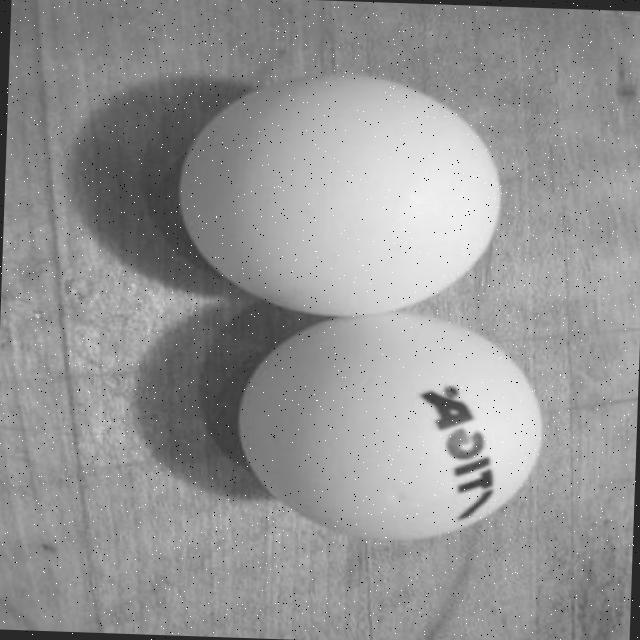ping-pong-ball: (170, 62, 511, 324), (230, 307, 550, 545)
